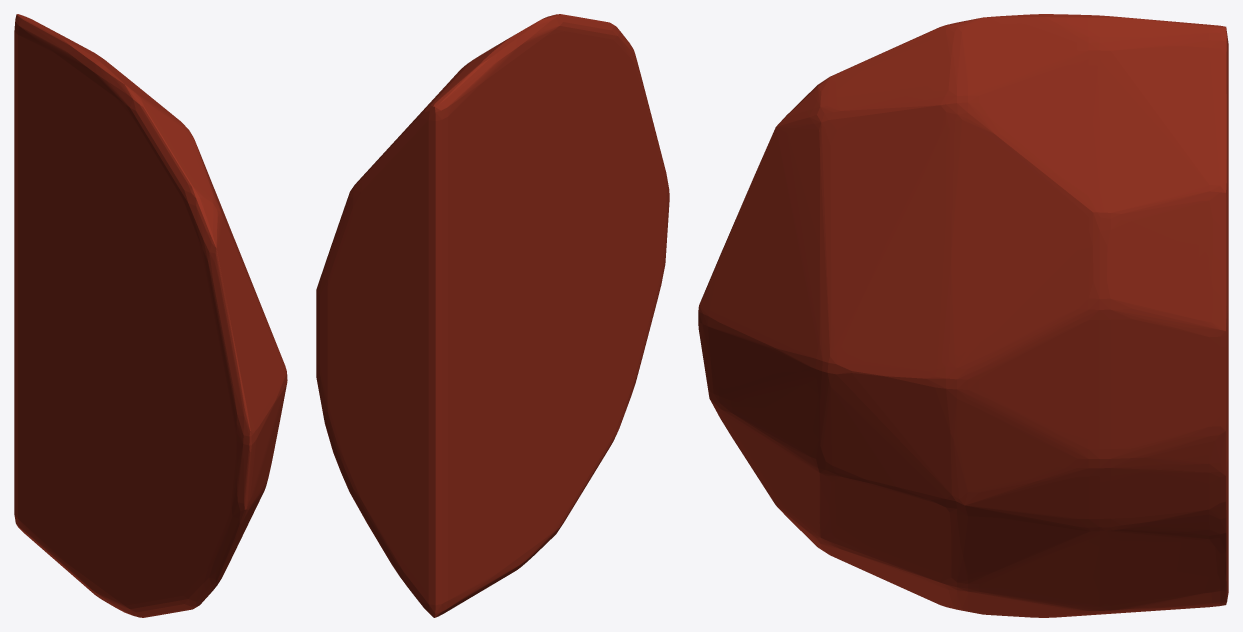
Rendered from right_th_proximal_part_15.obj.
3 renders of one model, left to right at view 1: azimuth 30°, elevation 25°; view 2: azimuth 150°, elevation 25°; view 3: azimuth 270°, elevation 25°, orthographic. The views are drawn at different scales.
Size of the model in its own units: 4.48 by 17.36 by 13.89.
